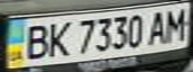0: (127, 11, 148, 48)
3: (93, 15, 115, 53), (112, 13, 130, 51)
7: (72, 16, 96, 55)
A: (145, 8, 172, 46)
B: (18, 21, 51, 61)
K: (42, 19, 72, 58)
M: (160, 6, 190, 43)
